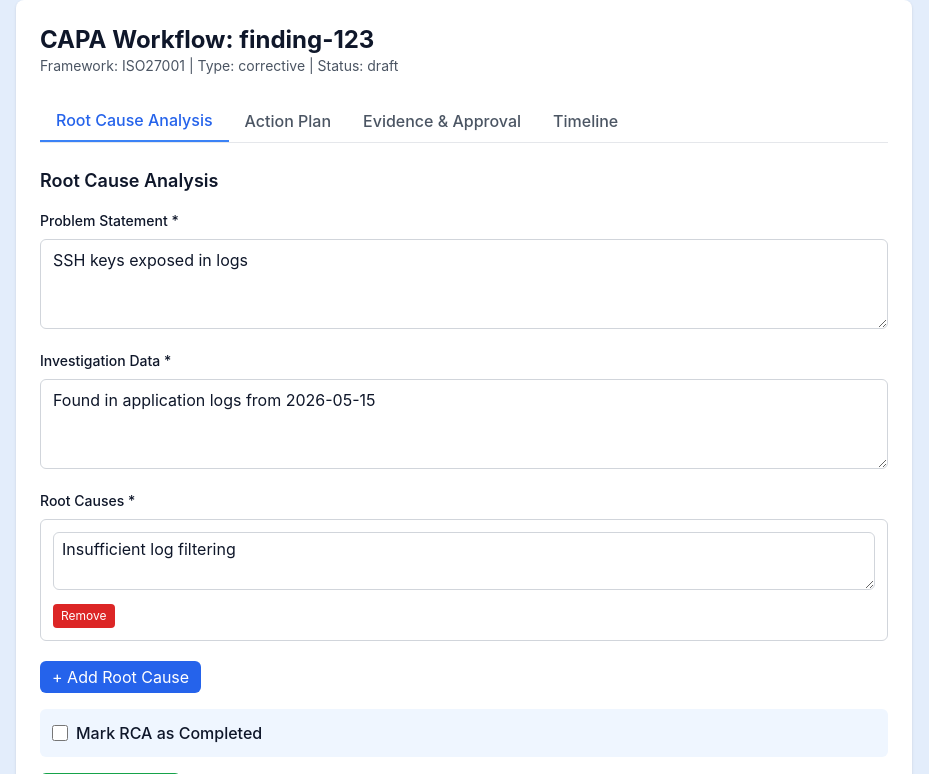
CapaDetailPanel › should display timeline information
This screenshot has width=929, height=774.
Click the button "Timeline": (586, 121) [537,100,634,142]
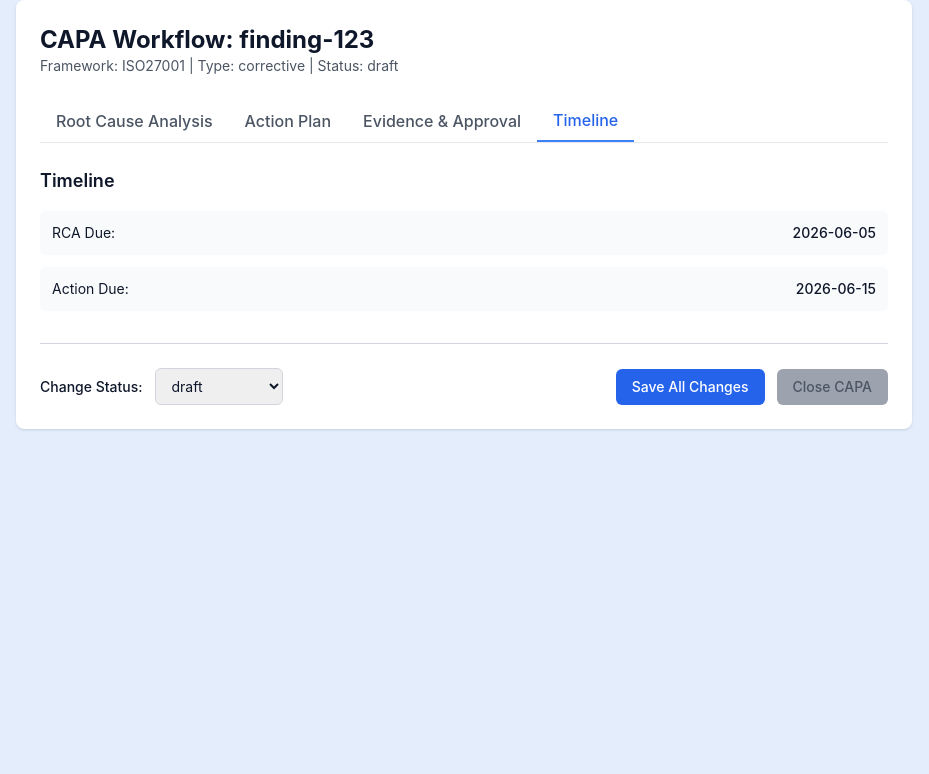
Expected: the text "RCA Due:" is shown, [52,223,115,243]
Expected: the text "2026-06-05" is shown, [793,223,876,243]
Expected: the text "Action Due:" is shown, [52,279,129,299]
